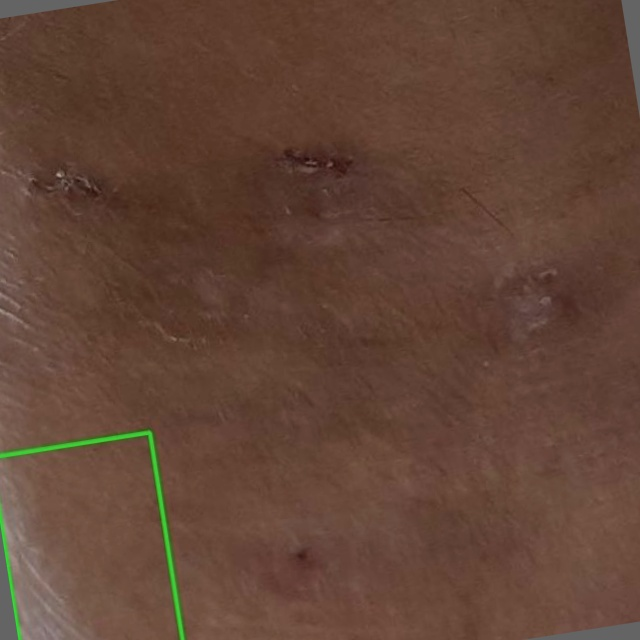Contact Dermatitis: (0, 432, 182, 639)
